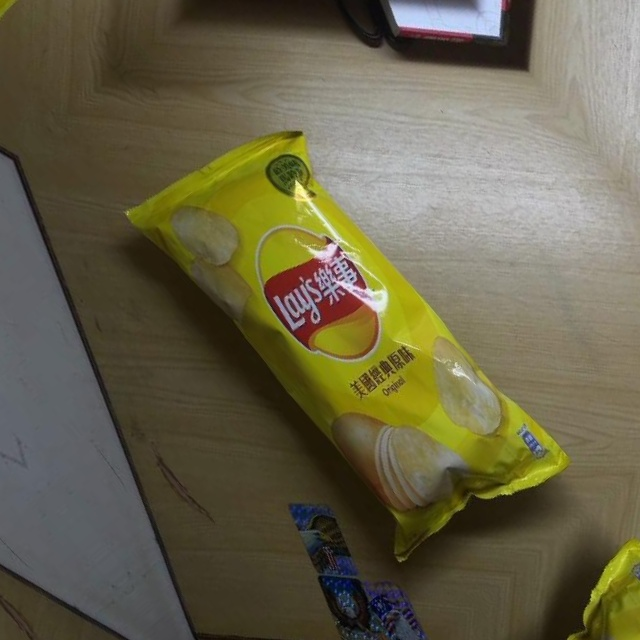Lay-s-original: (108, 86, 581, 594)
